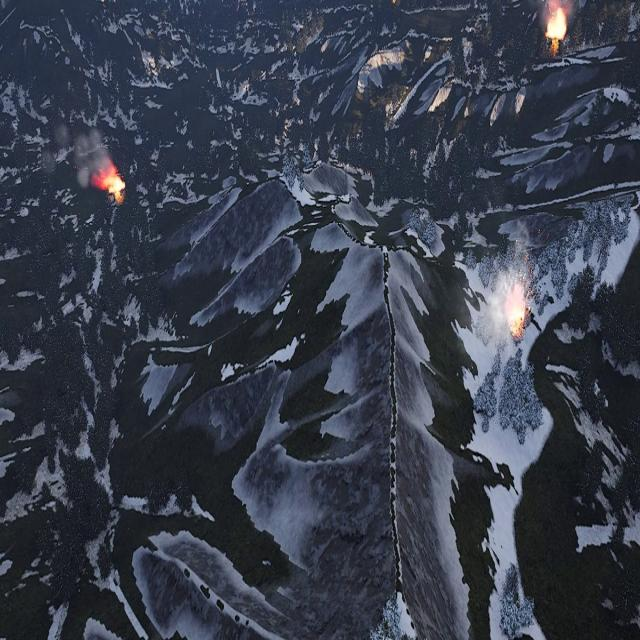fire: (507, 291, 528, 338), (99, 166, 125, 200), (547, 7, 568, 40)
smoke: (465, 221, 528, 382), (56, 121, 110, 188), (528, 0, 577, 46)
